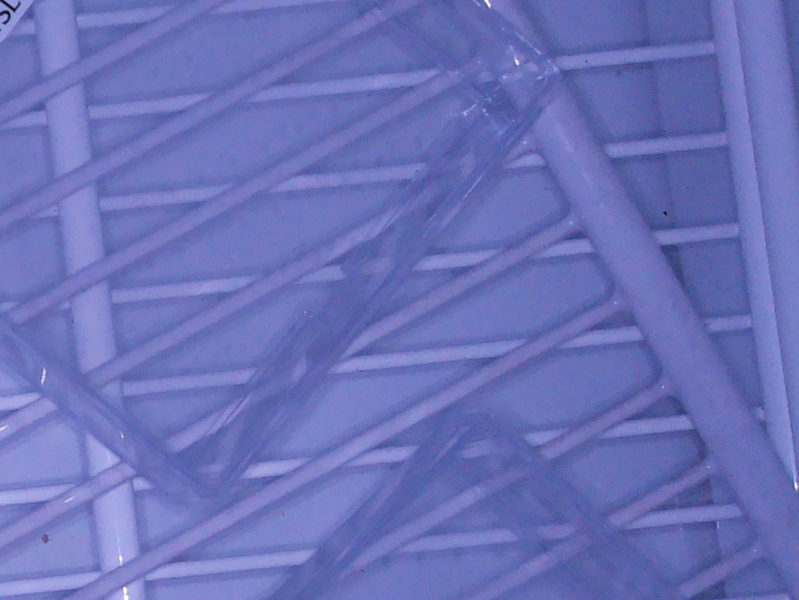plate: (1, 1, 563, 523), (298, 409, 685, 600)
